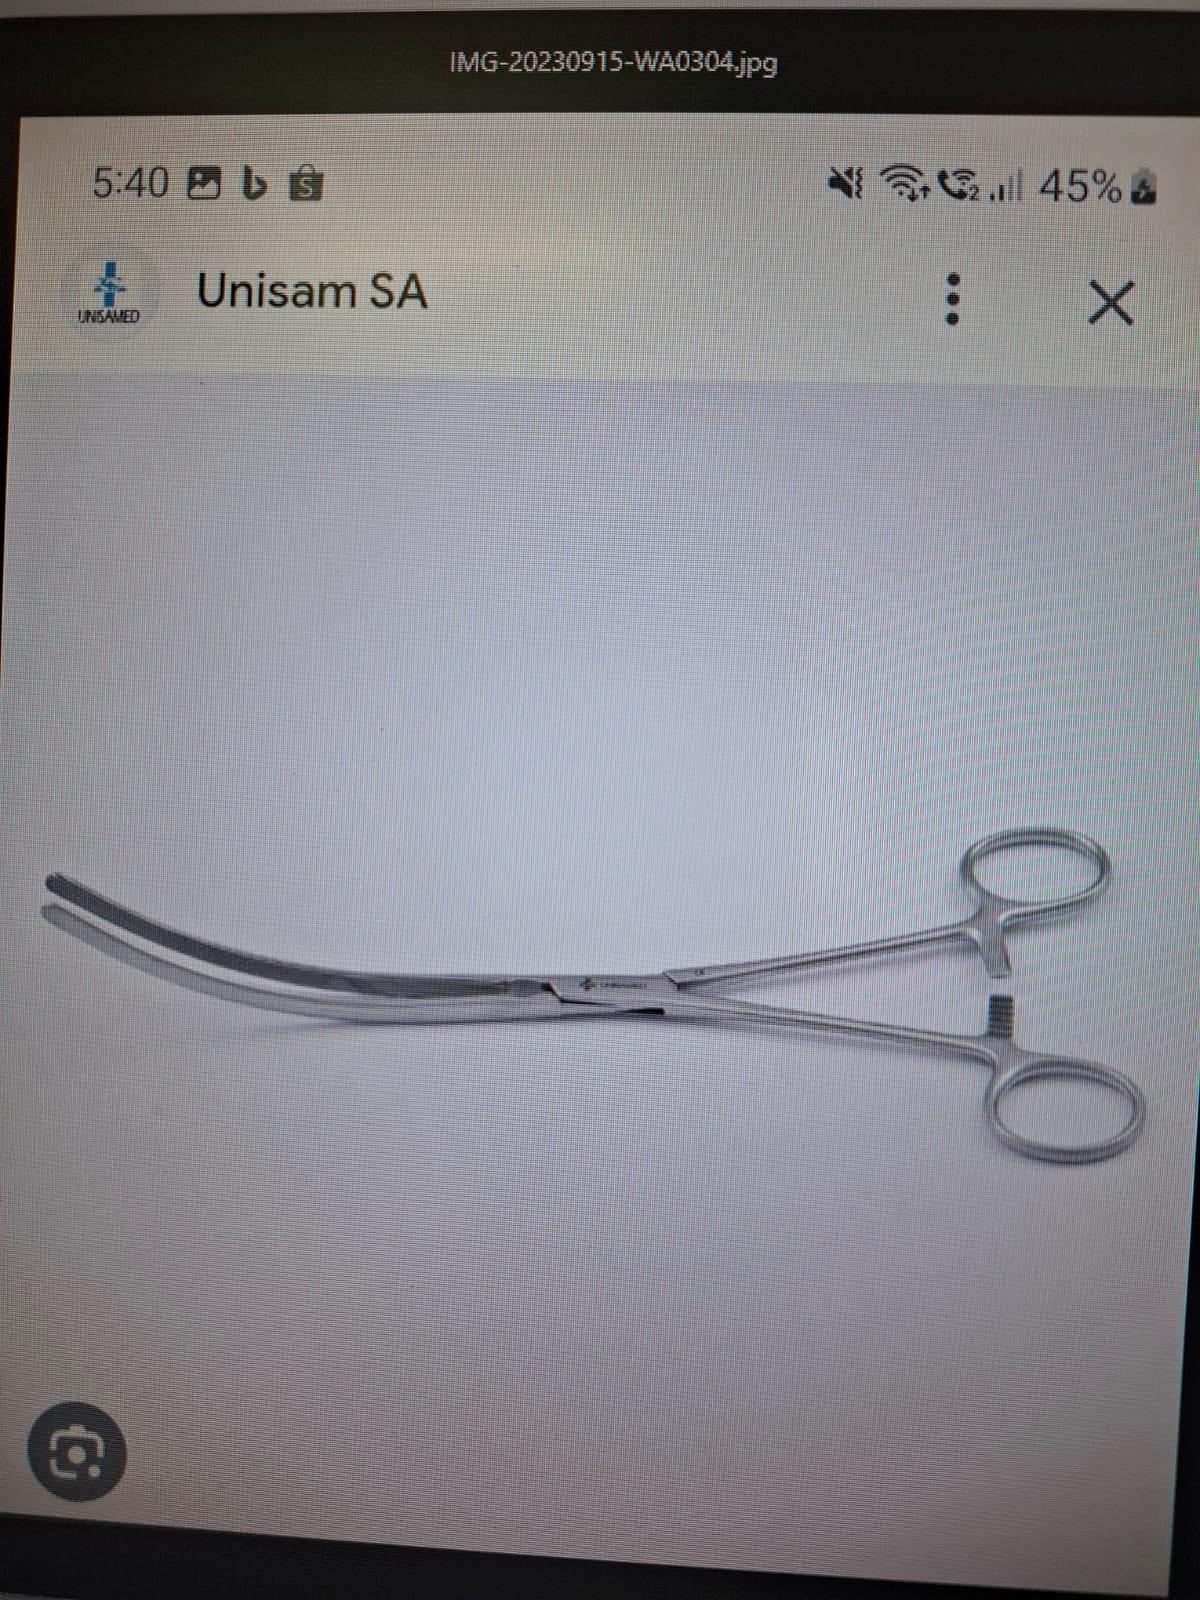Doyel Instestinal Forceps: (35, 808, 1155, 1178)
